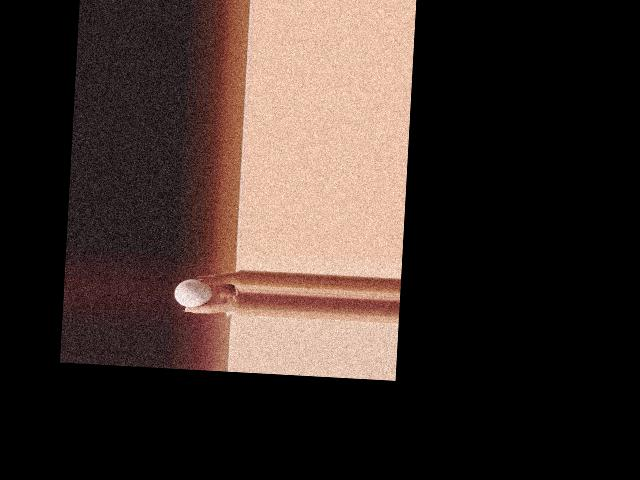egg: (173, 277, 213, 308)
